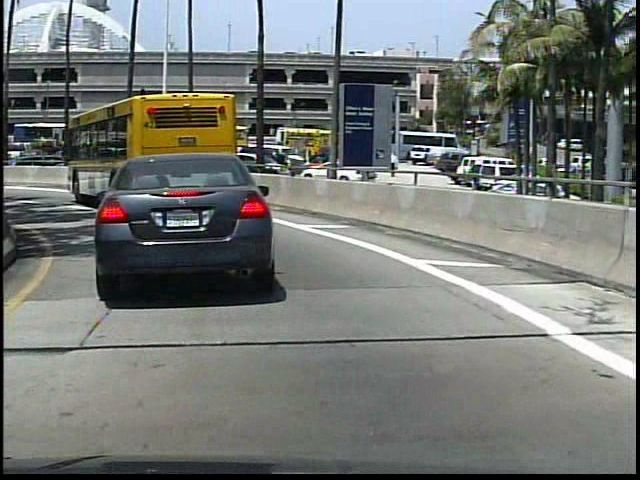person: (272, 147, 287, 180), (386, 149, 400, 179)
